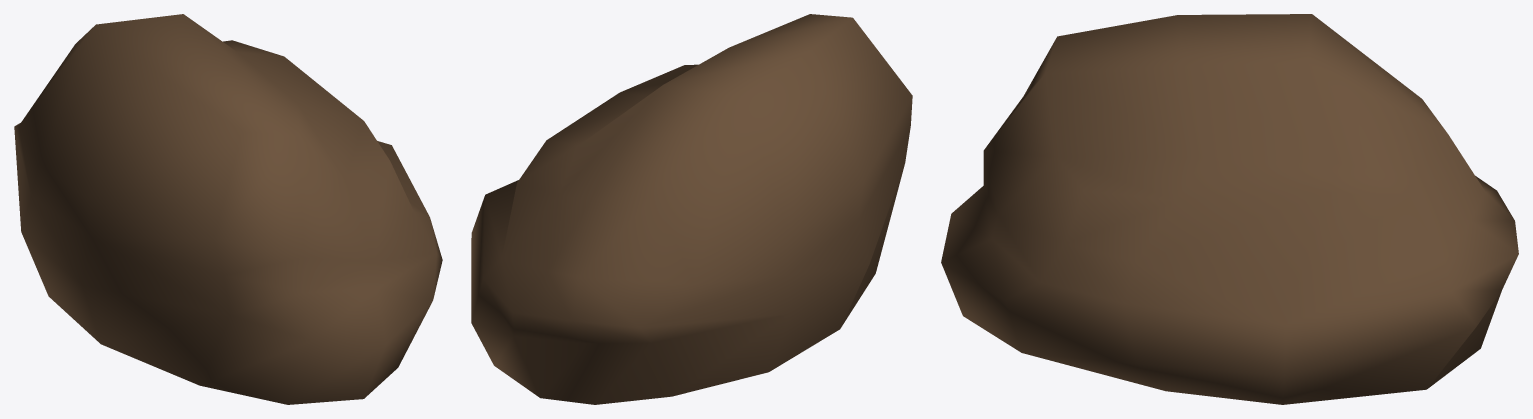
File: shituo8.FBX
The picture shows the model from 3 angles, left to right: view 1: azimuth 30°, elevation 25°; view 2: azimuth 150°, elevation 25°; view 3: azimuth 270°, elevation 25°; orthographic projection. The views are drawn at different scales.
Visible parts, largest first — view 1: 对象007; view 2: 对象007; view 3: 对象007.
Part boxes in pixels (left/top/right/bottom): 对象007: left=14, top=14, right=442, bottom=404; 对象007: left=471, top=14, right=912, bottom=404; 对象007: left=941, top=14, right=1518, bottom=404.
Size of the model in its own units: 0.7857 by 0.5794 by 1.09.
